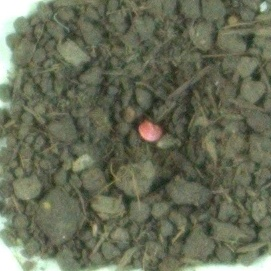pepper seed: (52, 45, 220, 188)
